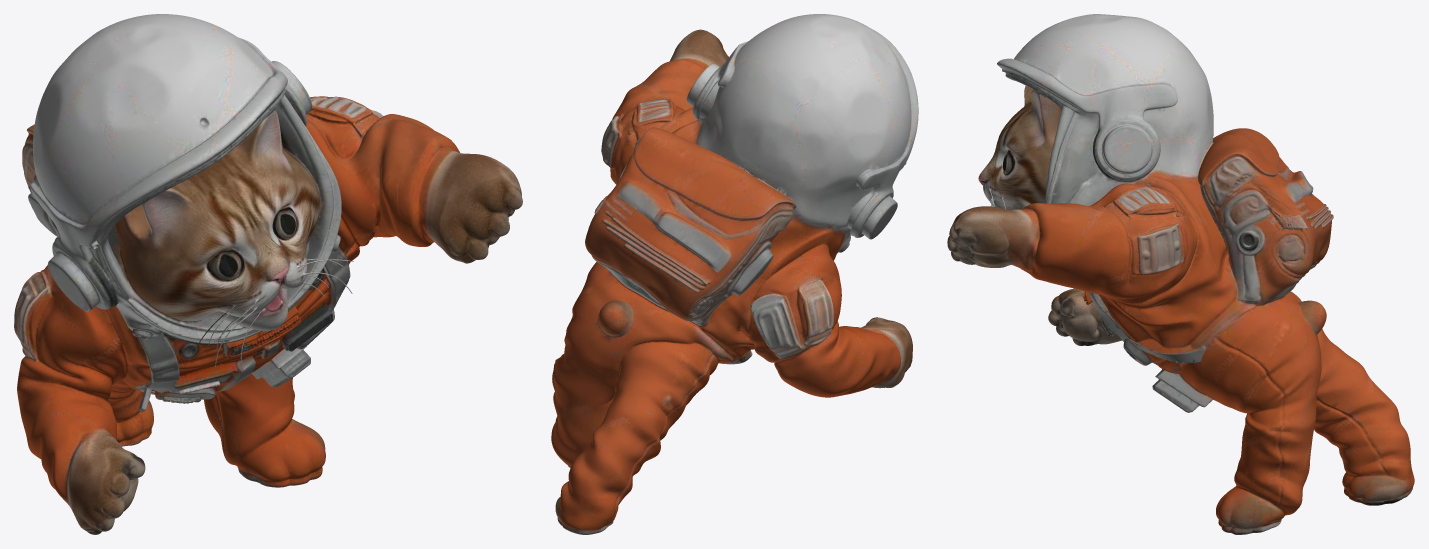
File: cat_superhero.glb
3 renders of one model, left to right at view 1: azimuth 30°, elevation 25°; view 2: azimuth 150°, elevation 25°; view 3: azimuth 270°, elevation 25°, orthographic. The views are drawn at different scales.
Parts seen in each view (by area): view 1: mesh_node; view 2: mesh_node; view 3: mesh_node.
Boxes of the visible parts, left/top/right/bottom form: mesh_node: left=14, top=14, right=522, bottom=534; mesh_node: left=551, top=14, right=918, bottom=534; mesh_node: left=947, top=14, right=1414, bottom=534.
Size of the model in its own units: 1.35 by 1.9 by 1.89.
1 material, 1 textured.
